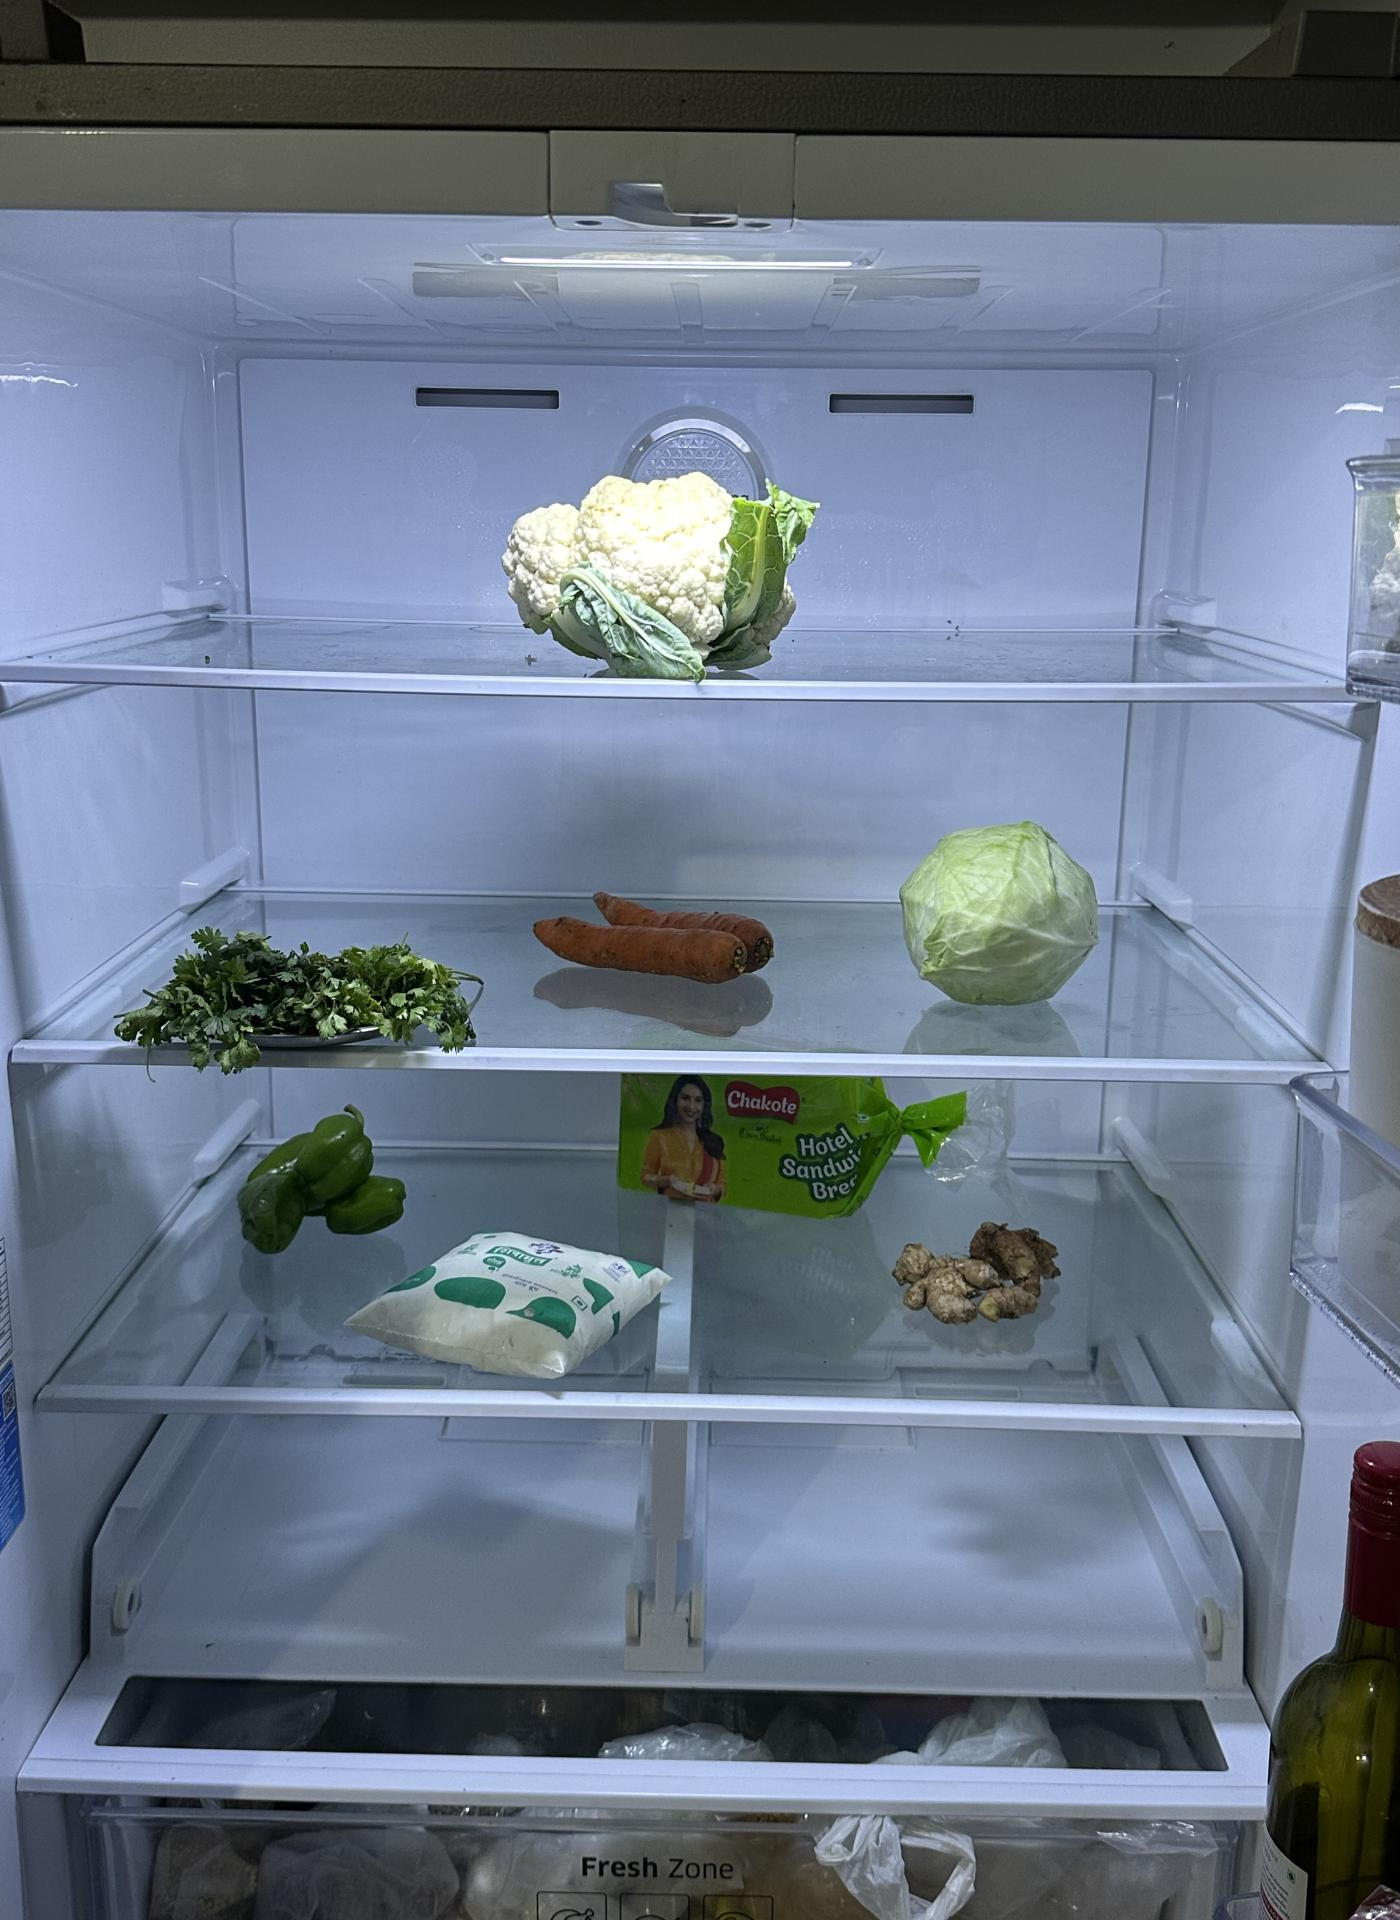bread: (620, 1070, 924, 1225)
cabbage: (898, 809, 1103, 1009)
capsicum: (237, 1106, 409, 1263)
carrots: (529, 885, 783, 987)
cauliflower: (496, 458, 808, 671)
coriander: (113, 927, 480, 1066)
ginger: (893, 1209, 1065, 1337)
milk: (341, 1222, 663, 1374)
